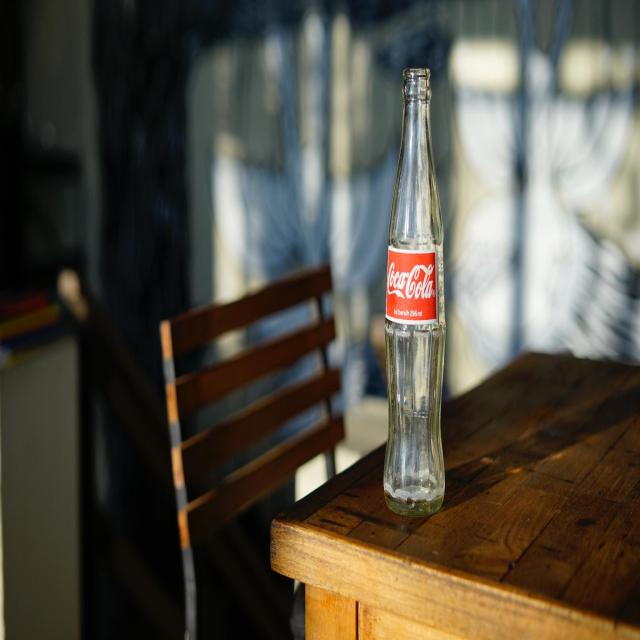coca-cola: (387, 260, 436, 304)
